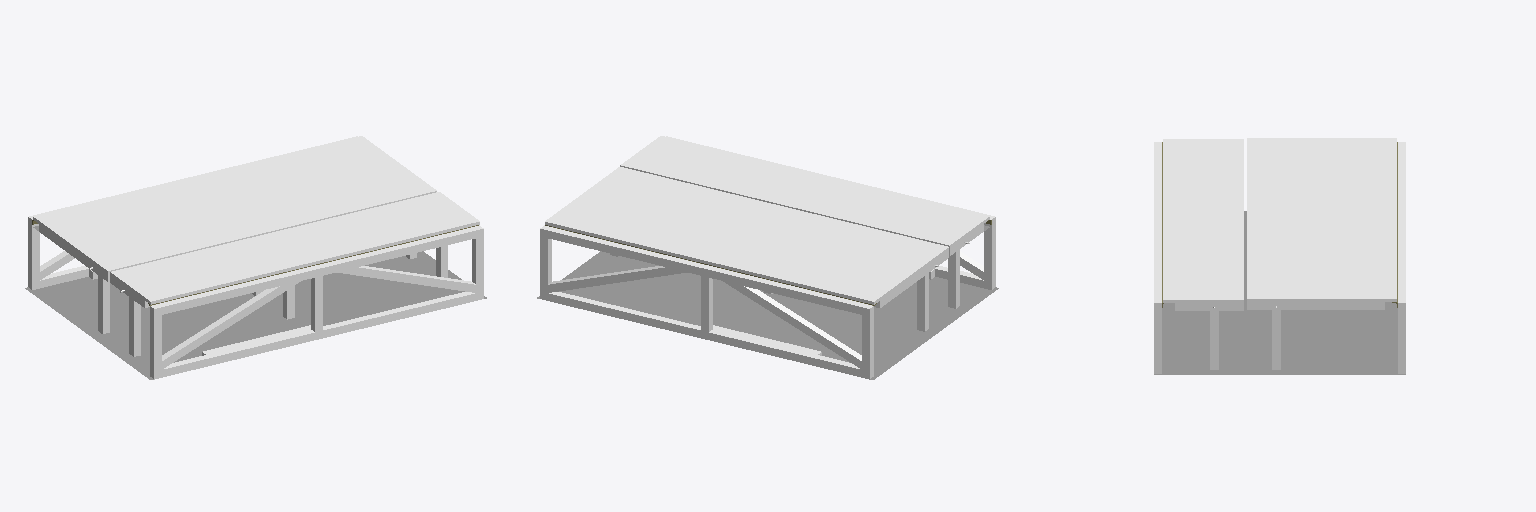
File: anhaenger_bettgestell_zugeklappt.obj
3 renders of one model, left to right at view 1: azimuth 30°, elevation 25°; view 2: azimuth 150°, elevation 25°; view 3: azimuth 270°, elevation 25°, orthographic.
Visible parts, largest first — view 1: top_3_3_182, ground_1, top_3_3_237, back_6_6_68, back_12_12_74, top_9_9_71, top_3_3_65, back_42_42_104, front_37_37_99, back_6_6_240, top_33_33_95, left_10_10_189; view 2: top_3_3_182, ground_1, top_3_3_237, back_6_6_7, back_12_12_13, top_9_9_10, top_3_3_4, front_37_37_38, back_42_42_43, back_6_6_185, top_33_33_34, left_10_10_189; view 3: top_3_3_182, ground_1, top_3_3_237, top_9_9_10, top_9_9_71, right_23_23_202, left_10_10_244, right_11_11_134, right_11_11_162.
Part boxes in pixels (x1,y1,x2,y2): top_3_3_182: (33,136,436,270); ground_1: (25,251,486,379); top_3_3_237: (111,192,479,301); back_6_6_68: (154,291,483,379); back_12_12_74: (154,229,483,316); top_9_9_71: (151,225,483,308); top_3_3_65: (164,292,474,368); back_42_42_104: (336,265,478,292); front_37_37_99: (162,278,300,369); back_6_6_240: (151,222,479,304); top_33_33_95: (162,286,279,360); left_10_10_189: (39,224,107,281); top_3_3_182: (545,167,948,301); ground_1: (537,251,998,379); top_3_3_237: (621,136,989,245); back_6_6_7: (540,291,869,379); back_12_12_13: (540,229,869,316); top_9_9_10: (540,225,872,308); top_3_3_4: (549,292,859,368); front_37_37_38: (723,274,864,369); back_42_42_43: (545,265,687,292); back_6_6_185: (545,222,873,304); top_33_33_34: (744,286,861,360); left_10_10_189: (880,251,948,307); top_3_3_182: (1247,138,1396,298); ground_1: (1154,211,1405,374); top_3_3_237: (1163,139,1243,299); top_9_9_10: (1398,142,1405,302); top_9_9_71: (1154,142,1161,302); right_23_23_202: (1247,302,1384,309); left_10_10_244: (1175,303,1243,310); right_11_11_134: (1272,310,1280,369); right_11_11_162: (1210,311,1218,369).
Size of the model in its own units: 225 by 47.4 by 146.